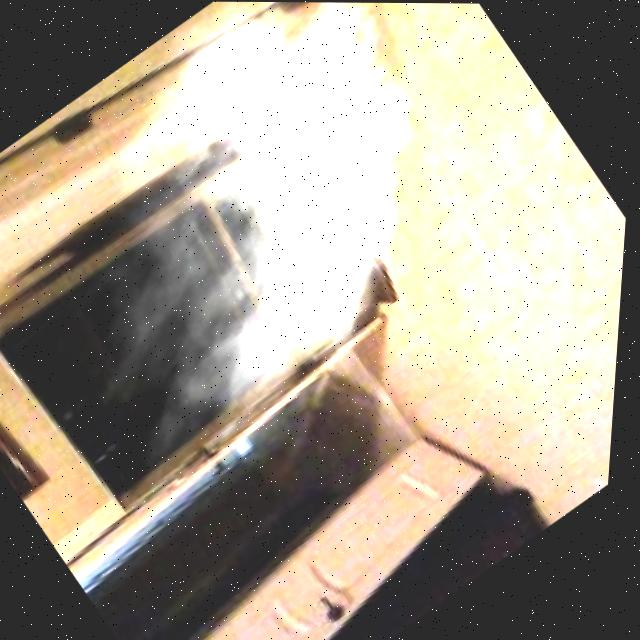Smoke: (0, 1, 567, 525)
